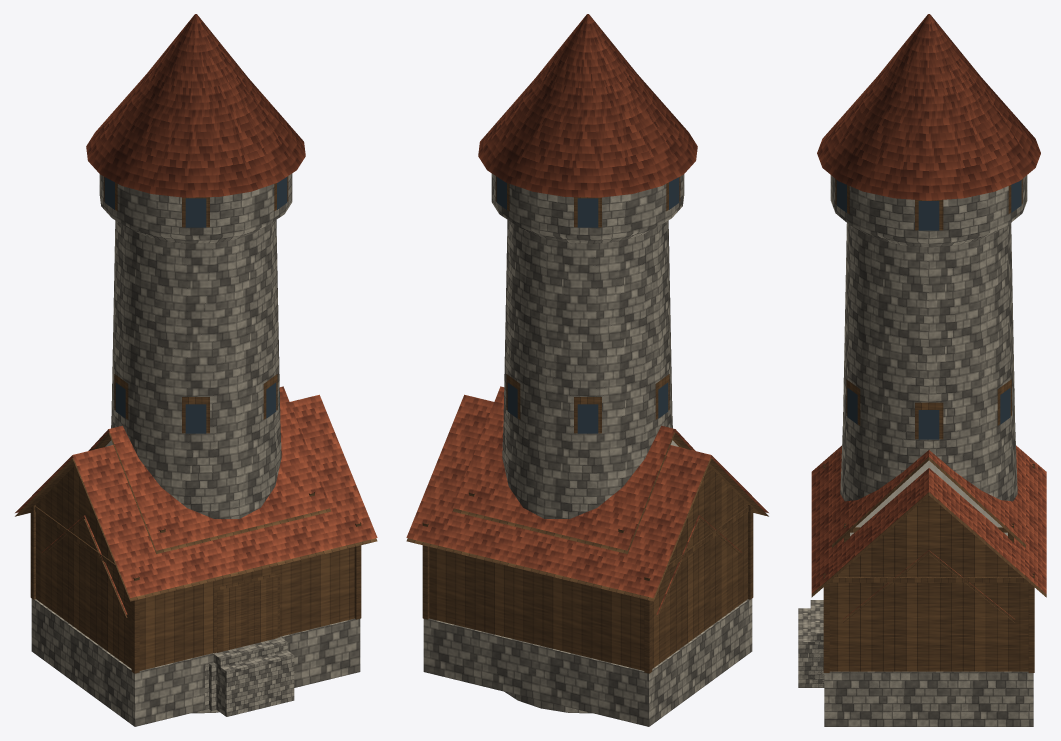
The model's file is structures.glb.
3 views of the same model, side by side, from view 1: azimuth 30°, elevation 25°; view 2: azimuth 150°, elevation 25°; view 3: azimuth 270°, elevation 25° (orthographic).
Parts seen in each view (by area): view 1: tower, barn, house_tall; view 2: tower, barn, house_tall; view 3: tower, barn, house_tall.
Part boxes in pixels (left/top/right/bottom): tower: left=86, top=14, right=305, bottom=713; barn: left=15, top=394, right=377, bottom=726; house_tall: left=88, top=386, right=331, bottom=710; tower: left=478, top=14, right=697, bottom=713; barn: left=406, top=394, right=768, bottom=726; house_tall: left=452, top=386, right=695, bottom=553; tower: left=817, top=14, right=1040, bottom=501; barn: left=798, top=445, right=1046, bottom=726; house_tall: left=832, top=449, right=1025, bottom=547.
Size of the model in its own units: 10.6 by 27 by 9.08.
5 materials, 4 textured.
